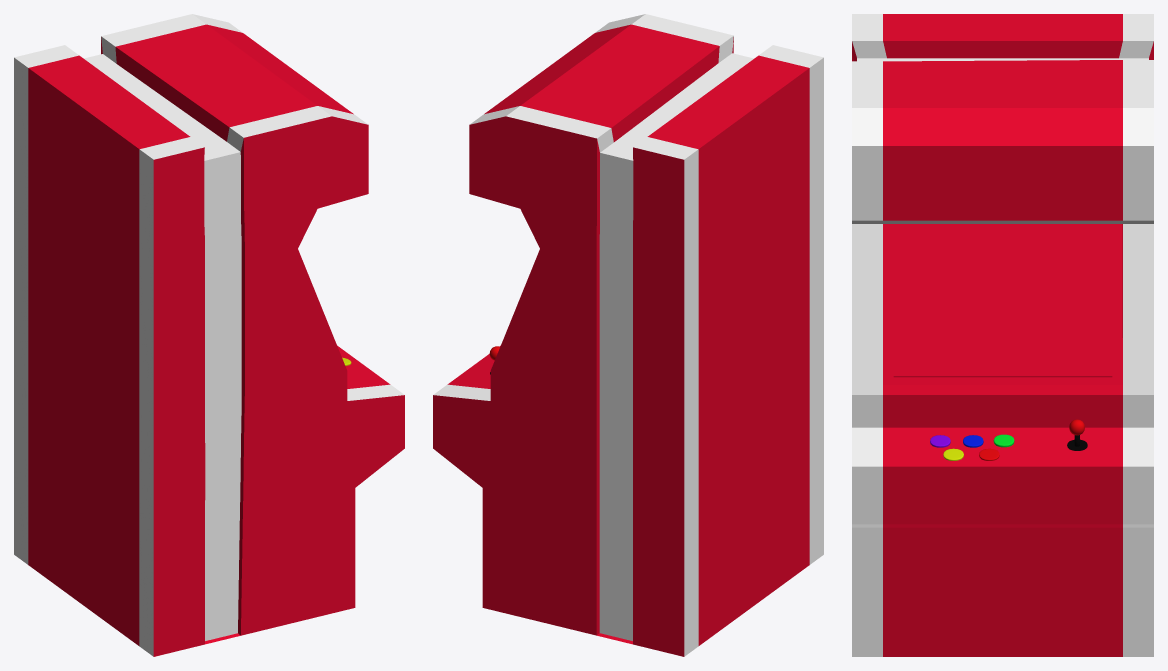
File: Maquinita.fbx
The picture shows the model from 3 angles, left to right: view 1: azimuth 30°, elevation 25°; view 2: azimuth 150°, elevation 25°; view 3: azimuth 270°, elevation 25°; orthographic projection. The views are drawn at different scales.
Visible parts, largest first — view 1: Maquinita; view 2: Maquinita; view 3: Maquinita, Cube.007.
Part boxes in pixels (box(x1,y1,x2,y2)): Maquinita: box(14, 14, 404, 656); Maquinita: box(433, 14, 823, 656); Maquinita: box(852, 14, 1153, 656); Cube.007: box(930, 419, 1087, 460).
Bounding box in the file's own units: 1.32 × 2.49 × 1.27.
